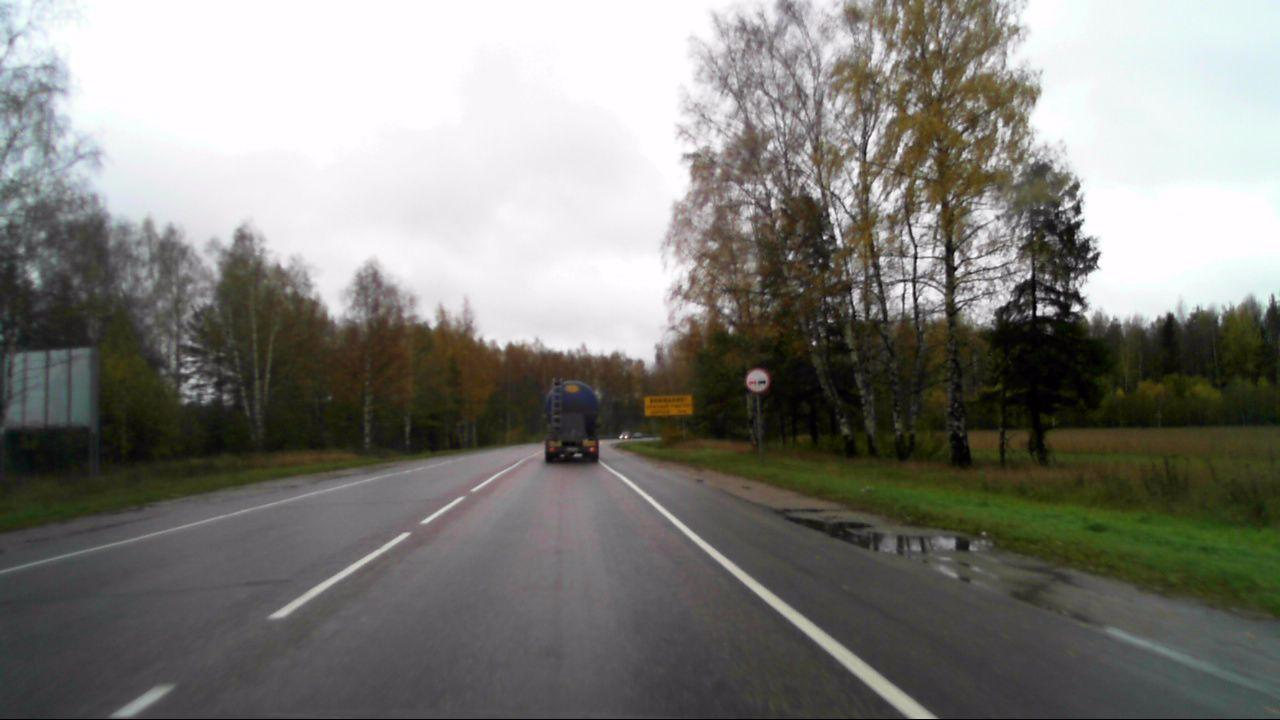road_sign: (743, 367, 772, 394)
